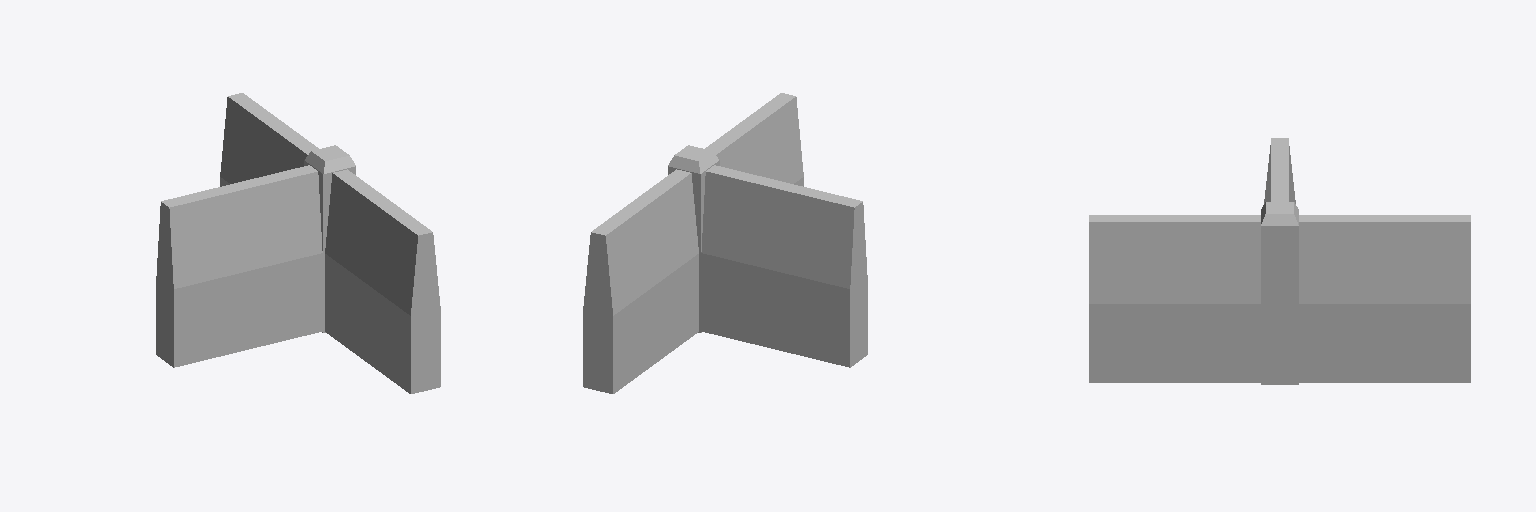
Rendered from Ограда 3.obj.
3 views of the same model, side by side, from view 1: azimuth 30°, elevation 25°; view 2: azimuth 150°, elevation 25°; view 3: azimuth 270°, elevation 25° (orthographic).
Parts seen in each view (by area): view 1: Cube.002, Cube, Cube.003, Cube.001; view 2: Cube.002, Cube.003, Cube, Cube.001; view 3: Cube, Cube.003, Cube.001, Cube.002.
Part boxes in pixels (left/top/right/bottom): Cube.002: left=156, top=165, right=322, bottom=367; Cube: left=325, top=169, right=440, bottom=393; Cube.003: left=220, top=93, right=318, bottom=186; Cube.001: left=304, top=145, right=355, bottom=332; Cube.002: left=701, top=165, right=867, bottom=367; Cube.003: left=583, top=169, right=698, bottom=393; Cube: left=705, top=93, right=803, bottom=186; Cube.001: left=668, top=145, right=719, bottom=332; Cube: left=1089, top=215, right=1260, bottom=382; Cube.003: left=1299, top=215, right=1470, bottom=382; Cube.001: left=1261, top=202, right=1298, bottom=384; Cube.002: left=1264, top=138, right=1295, bottom=203.
Size of the model in its own units: 2.42 by 2.15 by 4.4.